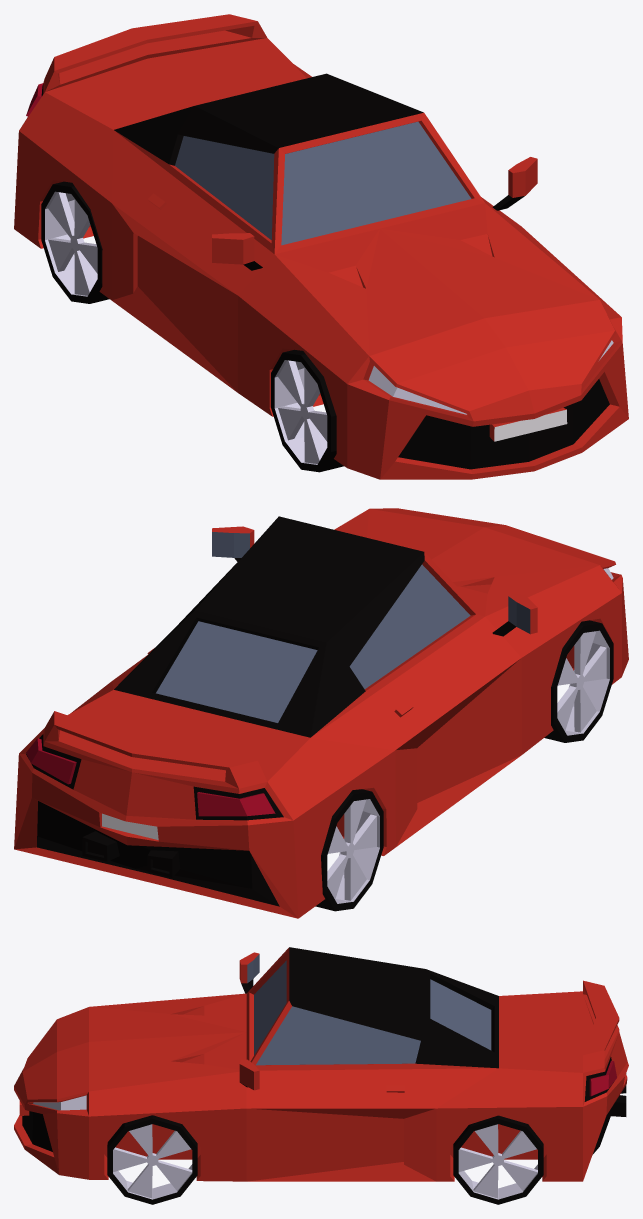
The model's file is mod-esportivo.gltf.
3 renders of one model, top to bottom at view 1: azimuth 30°, elevation 25°; view 2: azimuth 150°, elevation 25°; view 3: azimuth 270°, elevation 25°, orthographic. The views are drawn at different scales.
Visible parts, largest first — view 1: Sports, Sports wheel front left; view 2: Sports, Sports wheel front left; view 3: Sports, Sports wheel front left.
Part boxes in pixels (x1,y1,x2,y2): Sports: (14,14,628,479); Sports wheel front left: (41,181,343,472); Sports: (14,508,628,918); Sports wheel front left: (315,620,613,911); Sports: (14,947,628,1181); Sports wheel front left: (107,1115,543,1204).
Bounding box in the file's own units: 2.32 × 1.62 × 5.04.
